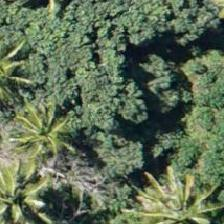coconut_tree: (4, 91, 94, 181), (0, 151, 60, 223), (143, 177, 223, 223)
